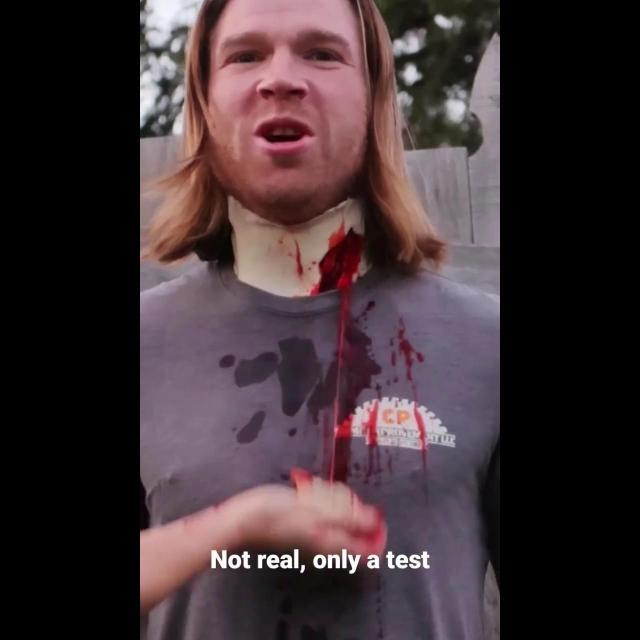blood: (307, 220, 381, 483), (391, 318, 428, 503), (274, 230, 320, 295), (352, 502, 387, 556), (365, 400, 380, 483), (290, 468, 313, 492), (360, 300, 374, 316)
